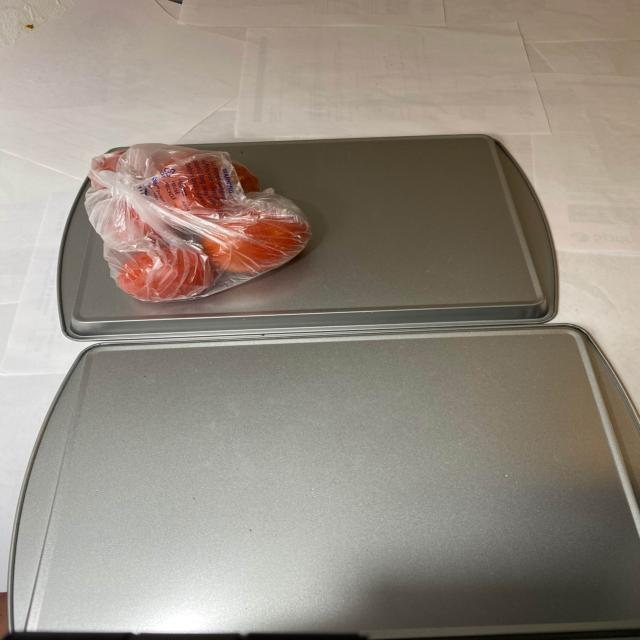tomato: (87, 146, 317, 302)
